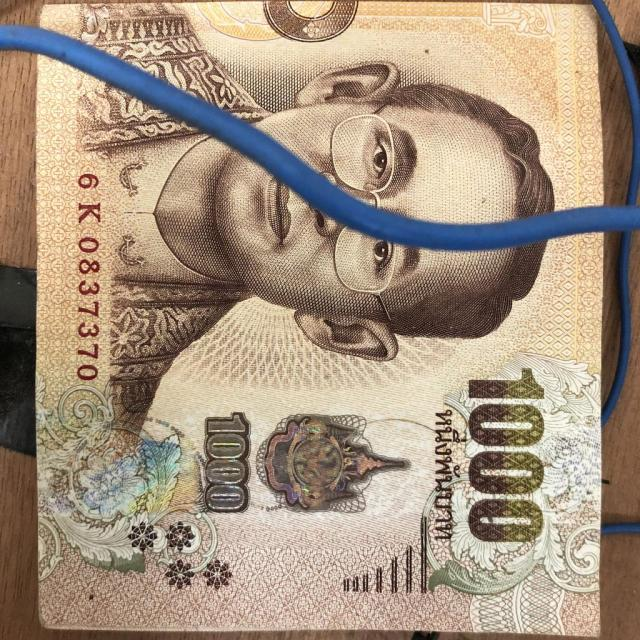THAI1000: (31, 56, 609, 636), (39, 0, 604, 223)
